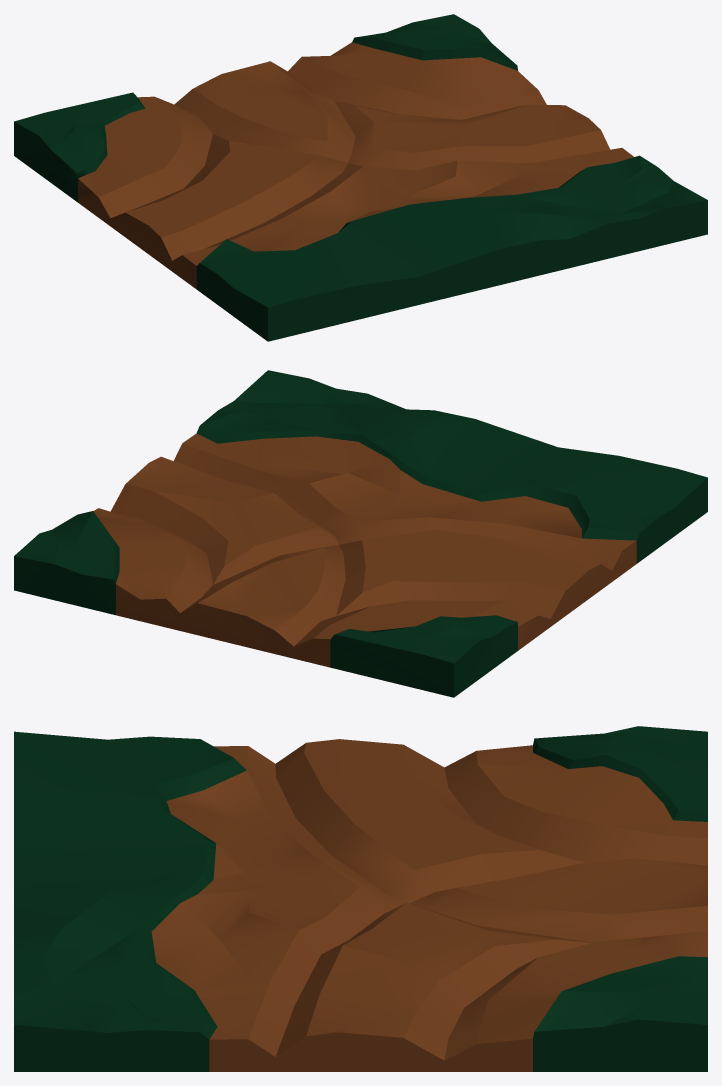
The model's file is Ground_Road_Crossroads_U.fbx.
3 views of the same model, one above another, from view 1: azimuth 30°, elevation 25°; view 2: azimuth 150°, elevation 25°; view 3: azimuth 270°, elevation 25° (orthographic). The views are drawn at different scales.
Parts seen in each view (by area): view 1: Ground_Road_Crossroads_U; view 2: Ground_Road_Crossroads_U; view 3: Ground_Road_Crossroads_U.
Boxes of the visible parts, x1,y1,x2,y2 form: Ground_Road_Crossroads_U: [14, 14, 707, 341]; Ground_Road_Crossroads_U: [14, 370, 707, 697]; Ground_Road_Crossroads_U: [14, 726, 707, 1071].
Bounding box in the file's own units: 147 × 14.83 × 147.
